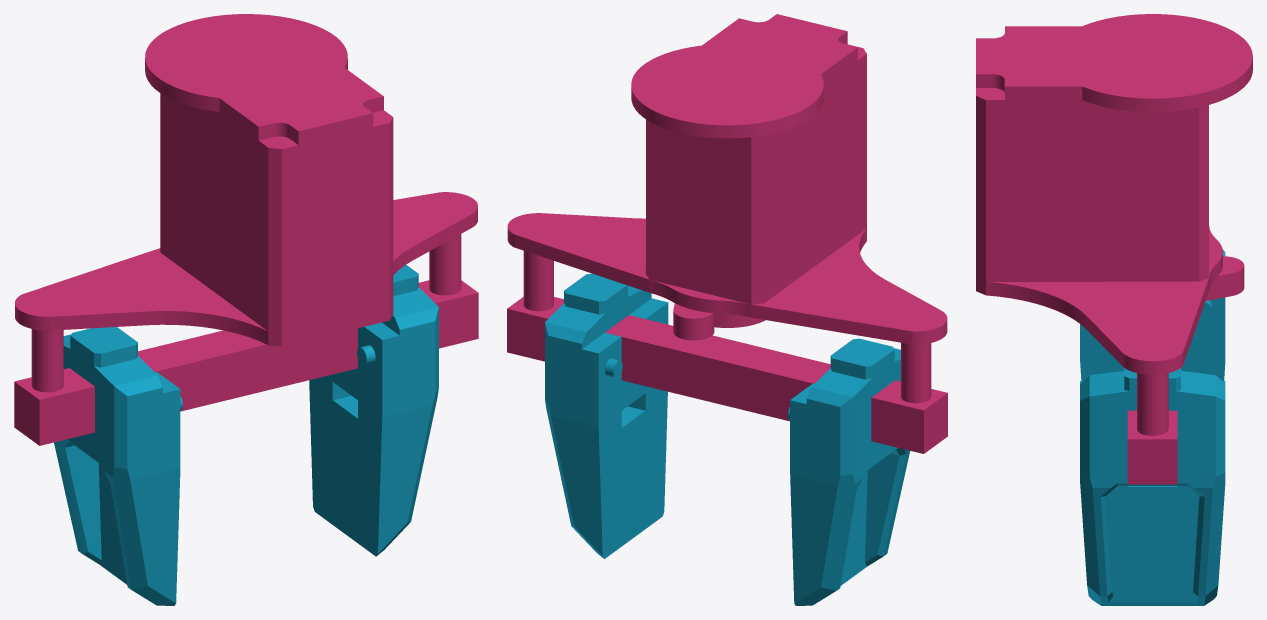
The model's file is gripper.obj.
The picture shows the model from 3 angles, left to right: view 1: azimuth 30°, elevation 25°; view 2: azimuth 150°, elevation 25°; view 3: azimuth 270°, elevation 25°; orthographic projection. The views are drawn at different scales.
Visible parts, largest first — view 1: mesh111, mesh105, mesh112, mesh62, mesh2, mesh96, mesh5, mesh9, mesh19, mesh23, mesh58, mesh100 (+18 smaller); view 2: mesh105, mesh112, mesh99, mesh63, mesh2, mesh96, mesh58, mesh100, mesh5, mesh9, mesh19, mesh23 (+21 smaller); view 3: mesh106, mesh112, mesh38, mesh100, mesh43, mesh2, mesh104, mesh61, mesh103, mesh57, mesh101, mesh25 (+17 smaller).
Part boxes in pixels (left/top/right/bottom): mesh111: left=282, top=113, right=389, bottom=346; mesh105: left=160, top=93, right=268, bottom=330; mesh112: left=145, top=14, right=383, bottom=131; mesh62: left=39, top=293, right=478, bottom=445; mesh2: left=309, top=327, right=382, bottom=556; mesh96: left=15, top=248, right=266, bottom=330; mesh5: left=130, top=467, right=180, bottom=602; mesh9: left=378, top=406, right=432, bottom=553; mesh19: left=382, top=321, right=435, bottom=417; mesh23: left=127, top=388, right=180, bottom=479; mesh58: left=14, top=280, right=478, bottom=399; mesh100: left=393, top=192, right=477, bottom=261; mesh105: left=764, top=47, right=866, bottom=302; mesh112: left=631, top=14, right=857, bottom=125; mesh99: left=649, top=121, right=751, bottom=304; mesh63: left=507, top=309, right=923, bottom=453; mesh2: left=598, top=303, right=668, bottom=558; mesh96: left=752, top=229, right=947, bottom=331; mesh58: left=507, top=297, right=947, bottom=410; mesh100: left=507, top=213, right=648, bottom=279; mesh5: left=551, top=416, right=602, bottom=556; mesh9: left=790, top=474, right=837, bottom=603; mesh19: left=790, top=399, right=840, bottom=485; mesh23: left=548, top=336, right=598, bottom=427; mesh106: left=986, top=86, right=1198, bottom=281; mesh112: left=976, top=14, right=1252, bottom=98; mesh38: left=1106, top=486, right=1198, bottom=602; mesh100: left=989, top=278, right=1208, bottom=361; mesh43: left=1089, top=378, right=1215, bottom=487; mesh2: left=1080, top=297, right=1225, bottom=380; mesh104: left=1082, top=57, right=1252, bottom=112; mesh61: left=1127, top=439, right=1177, bottom=484; mesh103: left=976, top=96, right=985, bottom=295; mesh57: left=1137, top=373, right=1168, bottom=435; mesh101: left=1199, top=105, right=1208, bottom=281; mesh25: left=1205, top=473, right=1225, bottom=595.
Bounding box in the file's own units: 0.1035 × 0.1092 × 0.0553.
